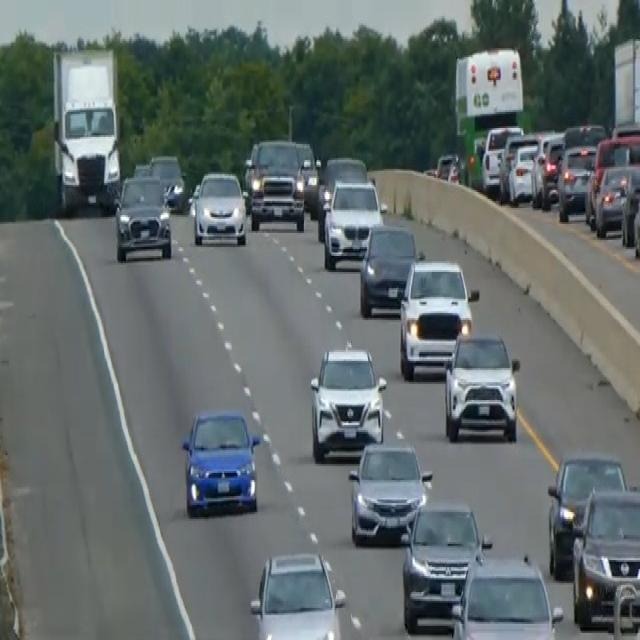bus: (452, 44, 525, 188)
car: (401, 499, 491, 633), (570, 484, 639, 631), (546, 452, 626, 578), (398, 256, 478, 380), (449, 551, 563, 638), (309, 343, 387, 461), (347, 439, 432, 546), (181, 407, 260, 517), (248, 550, 346, 638), (358, 220, 423, 316), (322, 176, 386, 268), (584, 132, 639, 230), (248, 137, 305, 231), (113, 172, 172, 262), (316, 153, 367, 240), (192, 169, 247, 245), (556, 140, 597, 220), (498, 134, 541, 206), (480, 123, 523, 192), (531, 132, 565, 208), (148, 153, 186, 211), (295, 139, 319, 208), (620, 176, 639, 247), (434, 149, 461, 183), (632, 176, 639, 263)
jeep: (442, 327, 521, 443)
lorry: (50, 45, 122, 215)
